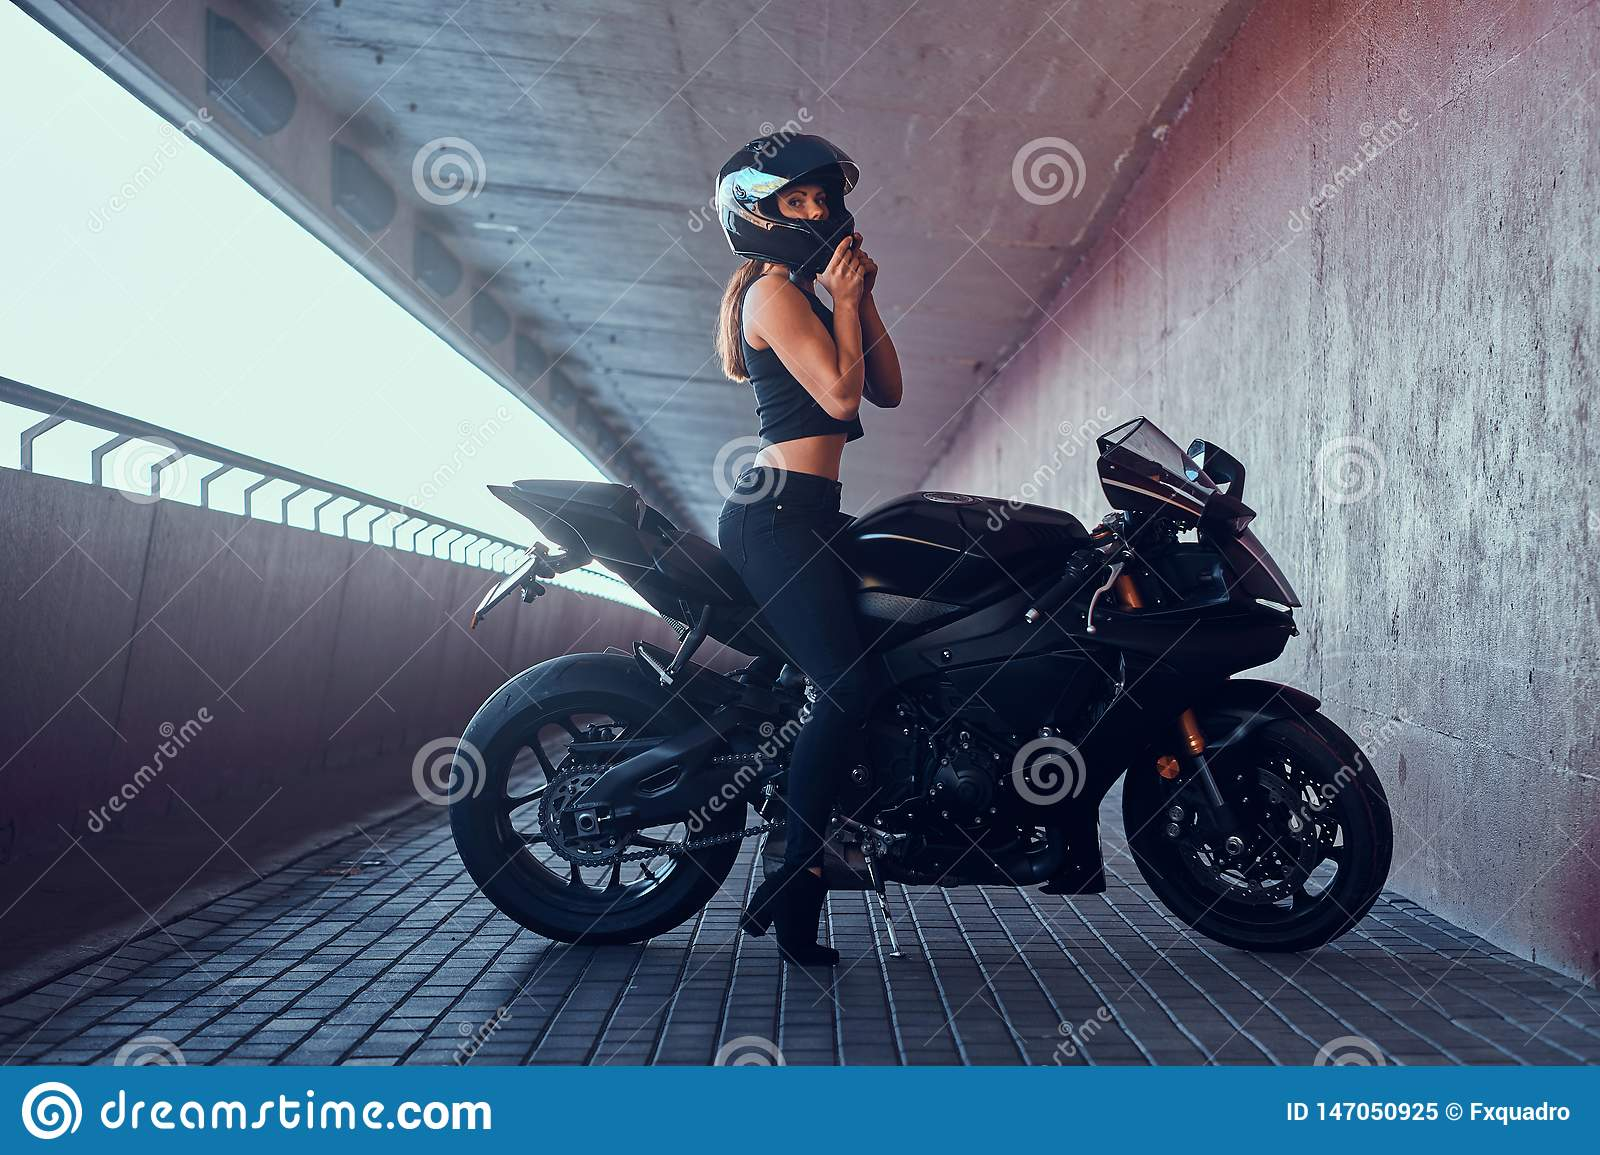helmet: (711, 130, 866, 256)
